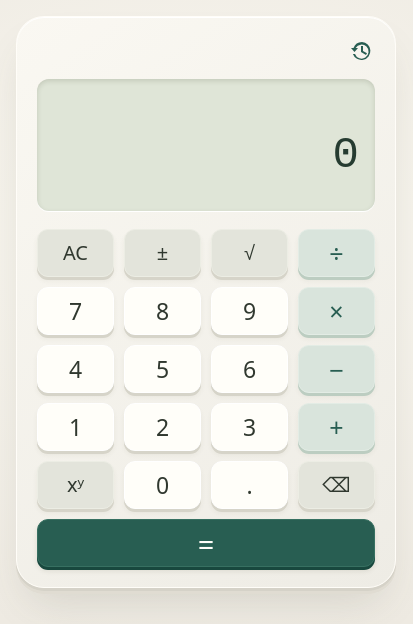
calculator interface › supports mouse entry and keyboard pressed states
The image size is (413, 624).
Step 1. Click the button "7" → (76, 311), box [37, 287, 114, 335]
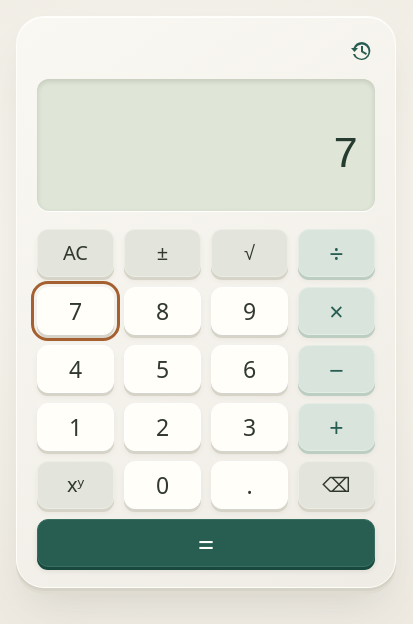
Now the element named "Calculator display" reads "7", box [333, 130, 357, 180]
Step 2. Press 8
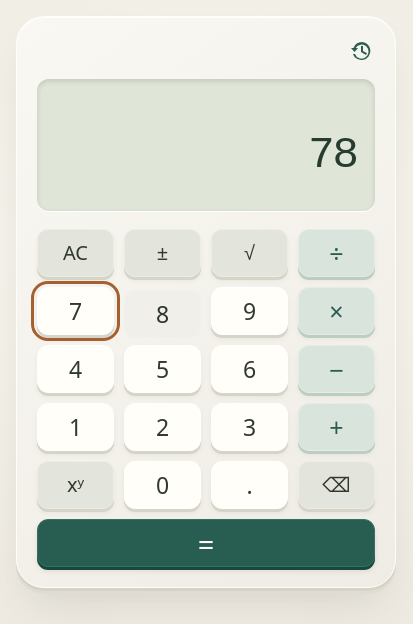
Now the element named "Calculator display" reads "78", box [308, 130, 357, 180]
Step 3. Press 8
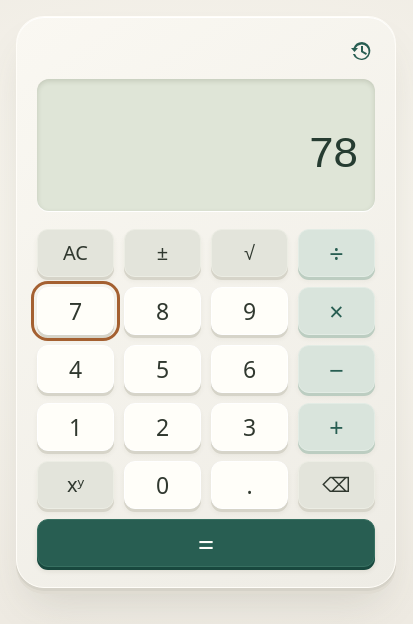
Now the button "8" does not have class "is-pressed", box [124, 287, 201, 335]
Step 4. Press Backspace
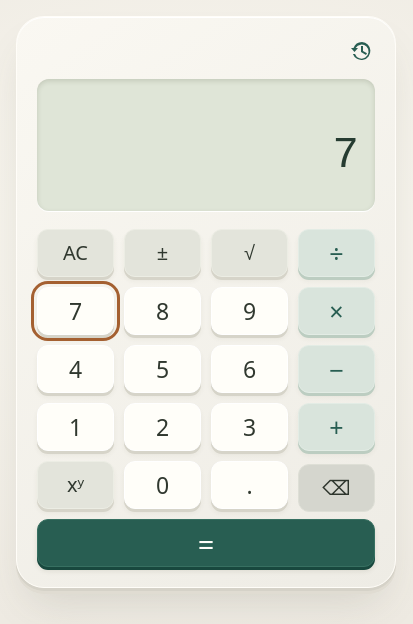
Now the element named "Calculator display" reads "7", box [333, 130, 357, 180]
Step 5. Press Escape
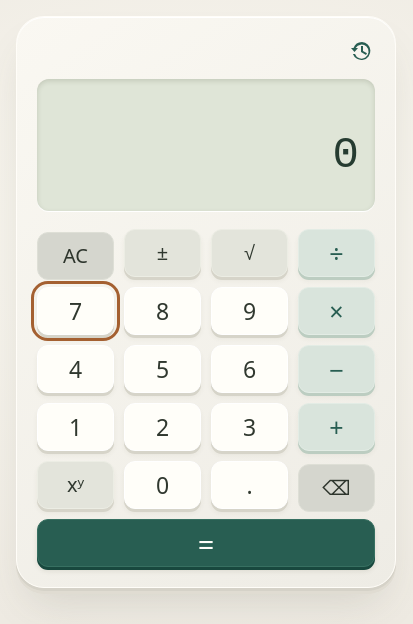
Now the element named "Calculator display" reads "0", box [333, 130, 357, 180]
